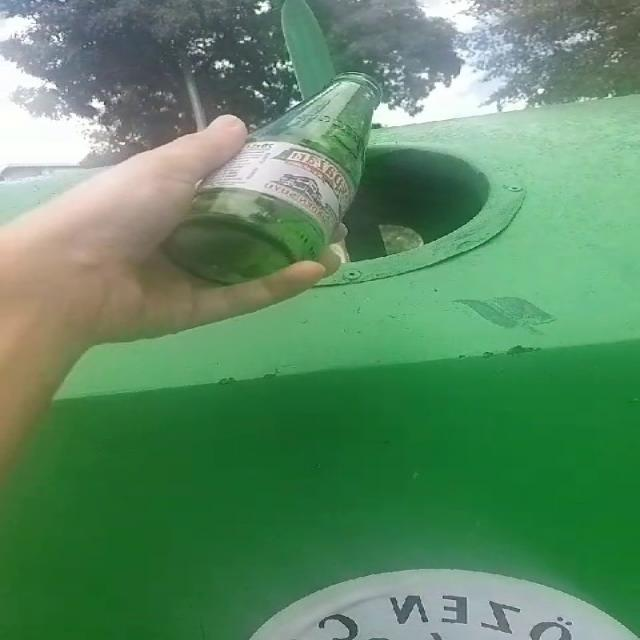glass: (164, 72, 381, 283)
